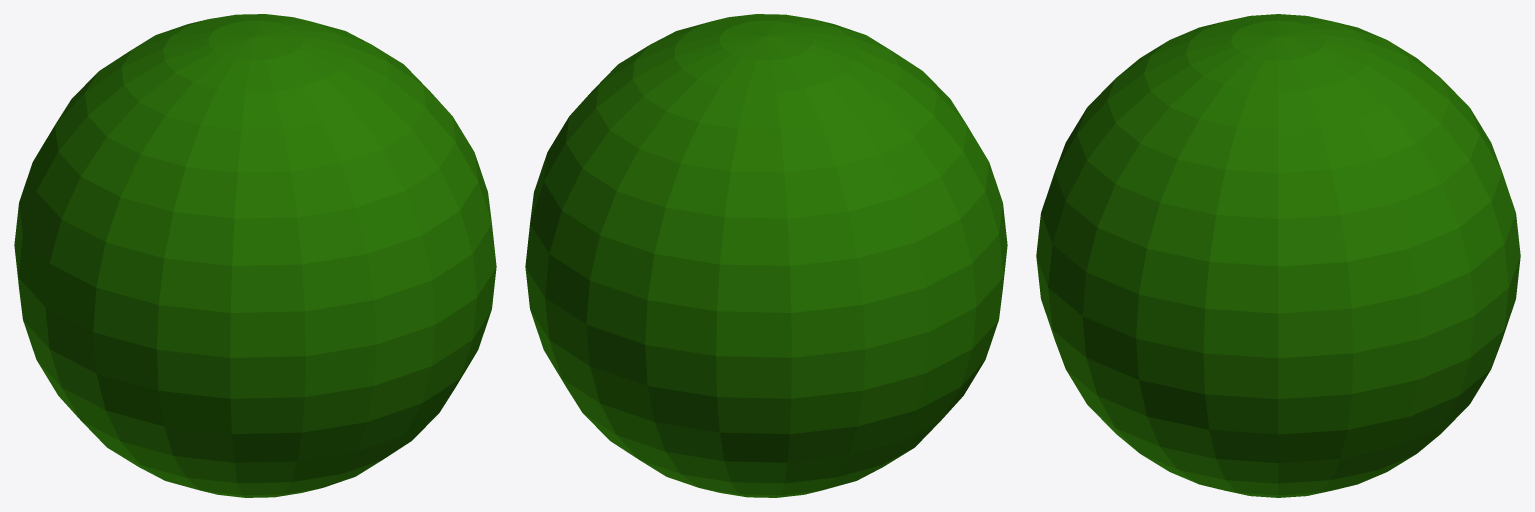
File: SM_powerup_cockpit.fbx
The picture shows the model from 3 angles, left to right: view 1: azimuth 30°, elevation 25°; view 2: azimuth 150°, elevation 25°; view 3: azimuth 270°, elevation 25°; orthographic projection.
Parts seen in each view (by area): view 1: SM_powerup_cockpit; view 2: SM_powerup_cockpit; view 3: SM_powerup_cockpit.
Part boxes in pixels (<box>): SM_powerup_cockpit: <box>14,14,496,497</box>; SM_powerup_cockpit: <box>525,14,1007,497</box>; SM_powerup_cockpit: <box>1036,14,1520,497</box>.
Bounding box in the file's own units: 200 × 200 × 200.
